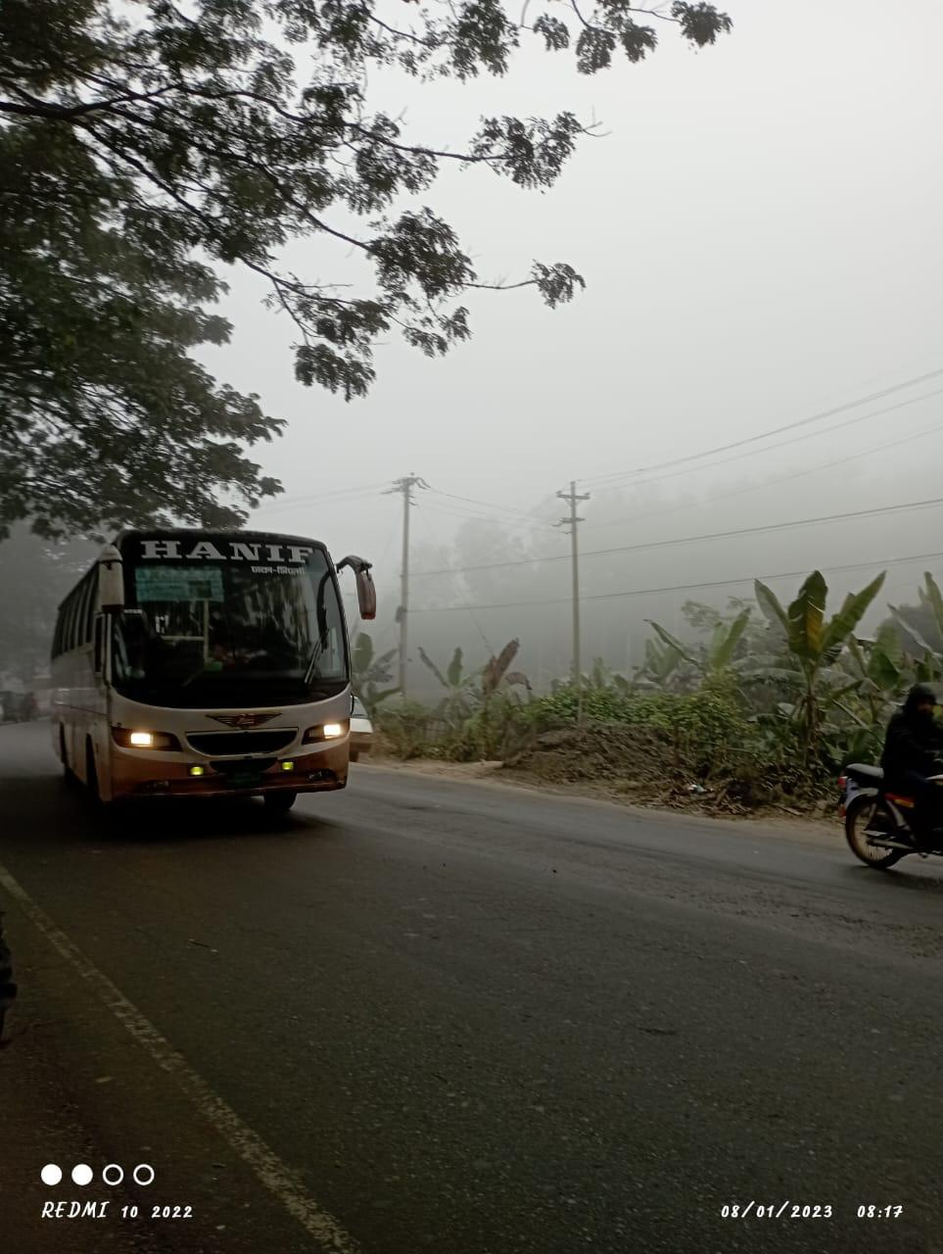Bike: (834, 674, 943, 871)
Bus: (43, 514, 381, 810)
